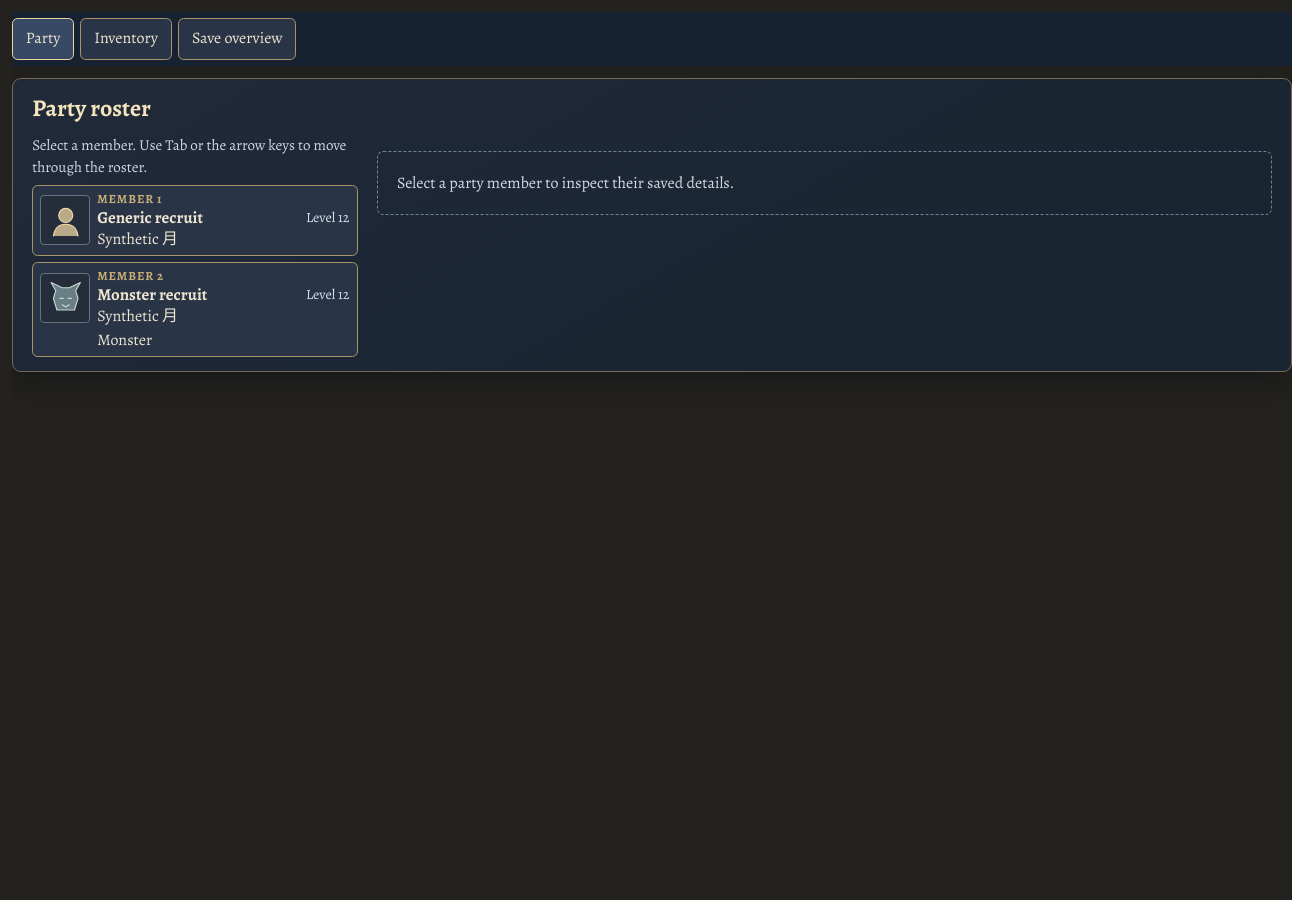
Test: selected unit detail tabs › shows distinct neutral and monster avatars when no exact portrait exists
Expected: the 1st icon is shown, top-left (47, 202), bottom-right (84, 239)
Expected: the 2nd icon is shown, top-left (47, 279), bottom-right (84, 316)
Click the button "Member 2 Monster recruit Synthetic 月 Level 12 Monster". click: click(65, 298)
box: top-left (32, 262), bottom-right (358, 357)
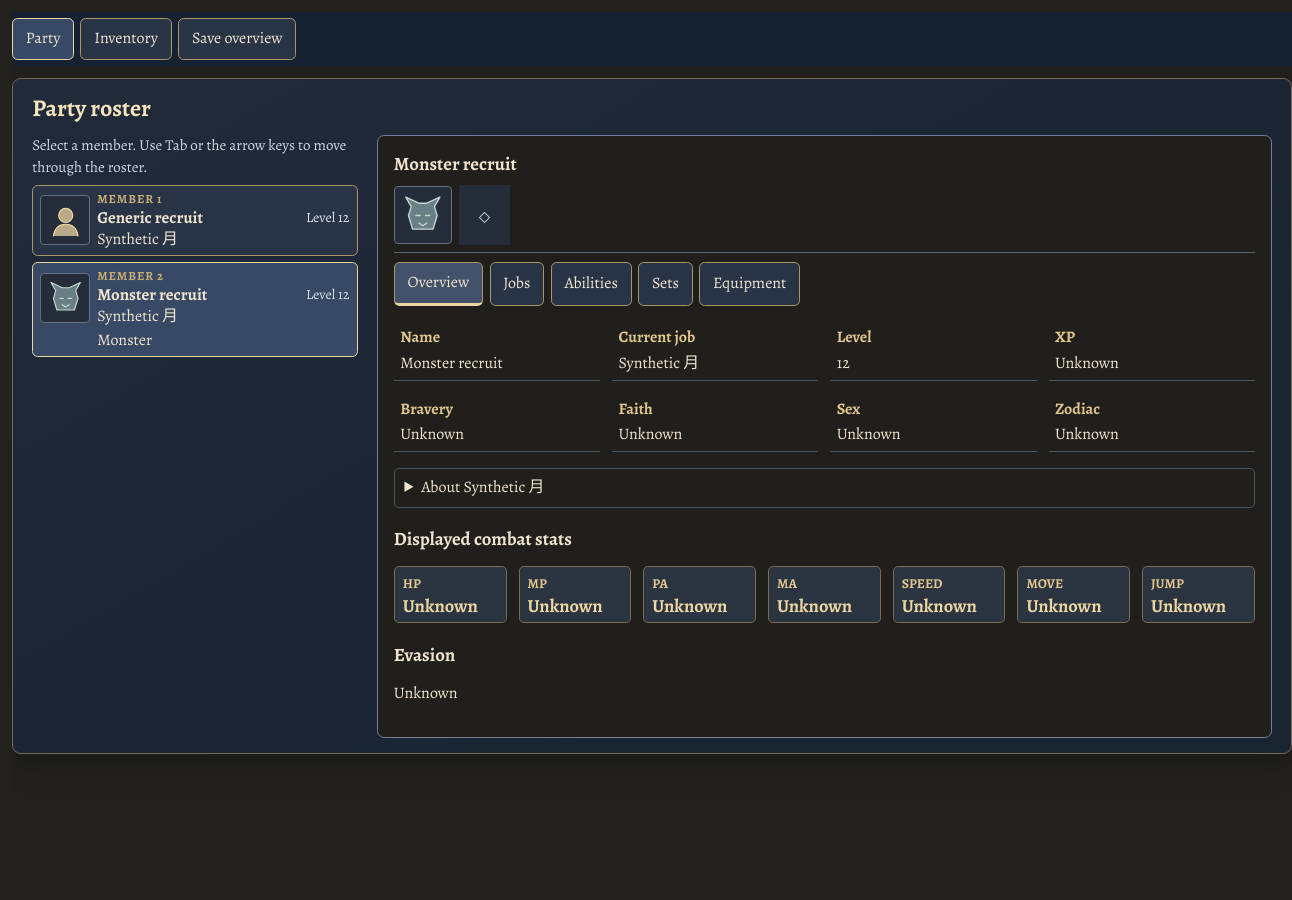
Expected: the number of pictures named "Monster recruit portrait represented by a monster silhouette" is 2, top-left (40, 273), bottom-right (90, 323); top-left (394, 186), bottom-right (452, 244)
